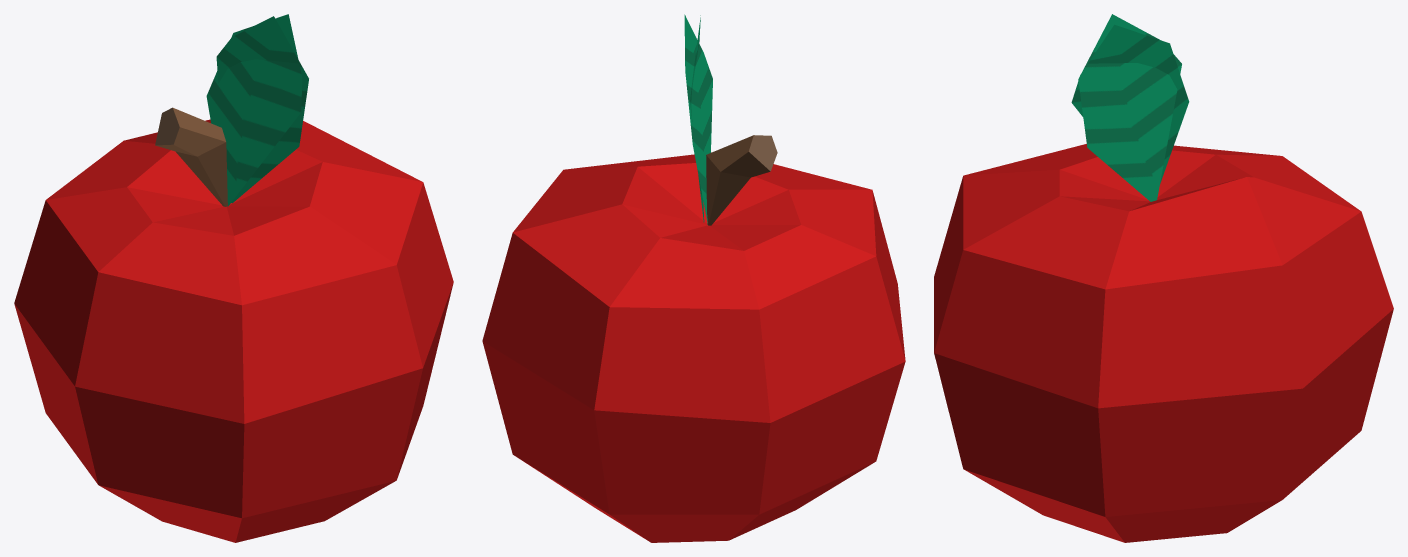
Rendered from Apple.fbx.
The picture shows the model from 3 angles, left to right: view 1: azimuth 30°, elevation 25°; view 2: azimuth 150°, elevation 25°; view 3: azimuth 270°, elevation 25°; orthographic projection. The views are drawn at different scales.
Visible parts, largest first — view 1: Apple, Plane.001, Plane; view 2: Apple, Plane.001; view 3: Apple, Plane, Plane.001.
Part boxes in pixels (x1=…): Apple: x1=14, y1=107, x2=453, y2=542; Plane.001: x1=206, y1=14, x2=302, y2=206; Plane: x1=216, y1=16, x2=308, y2=203; Apple: x1=482, y1=135, x2=905, y2=542; Plane.001: x1=684, y1=14, x2=712, y2=224; Apple: x1=934, y1=144, x2=1393, y2=542; Plane: x1=1078, y1=14, x2=1181, y2=201; Plane.001: x1=1071, y1=24, x2=1189, y2=183.
Bounding box in the file's own units: 184 × 225 × 190.
